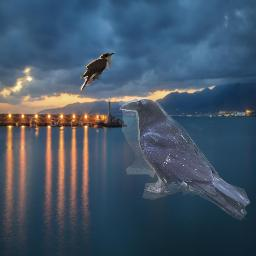Crow: (119, 97, 250, 221)
Cuckoo: (79, 52, 115, 95)
